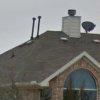Chimney: (55, 6, 83, 42)
